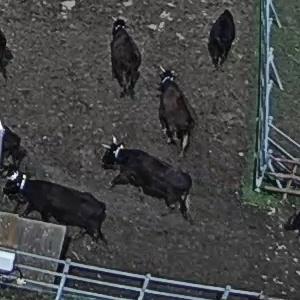cow: (92, 132, 215, 226), (2, 165, 113, 239), (98, 13, 152, 110), (151, 60, 202, 160), (199, 3, 245, 76)
